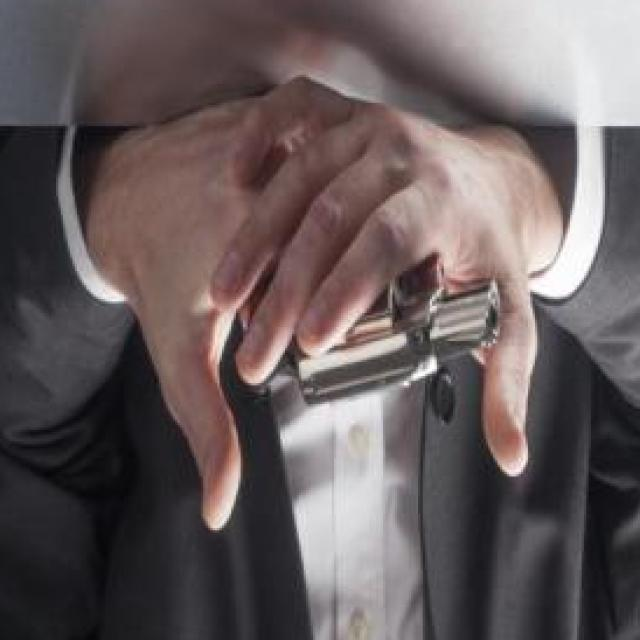pistol: (231, 240, 509, 411)
